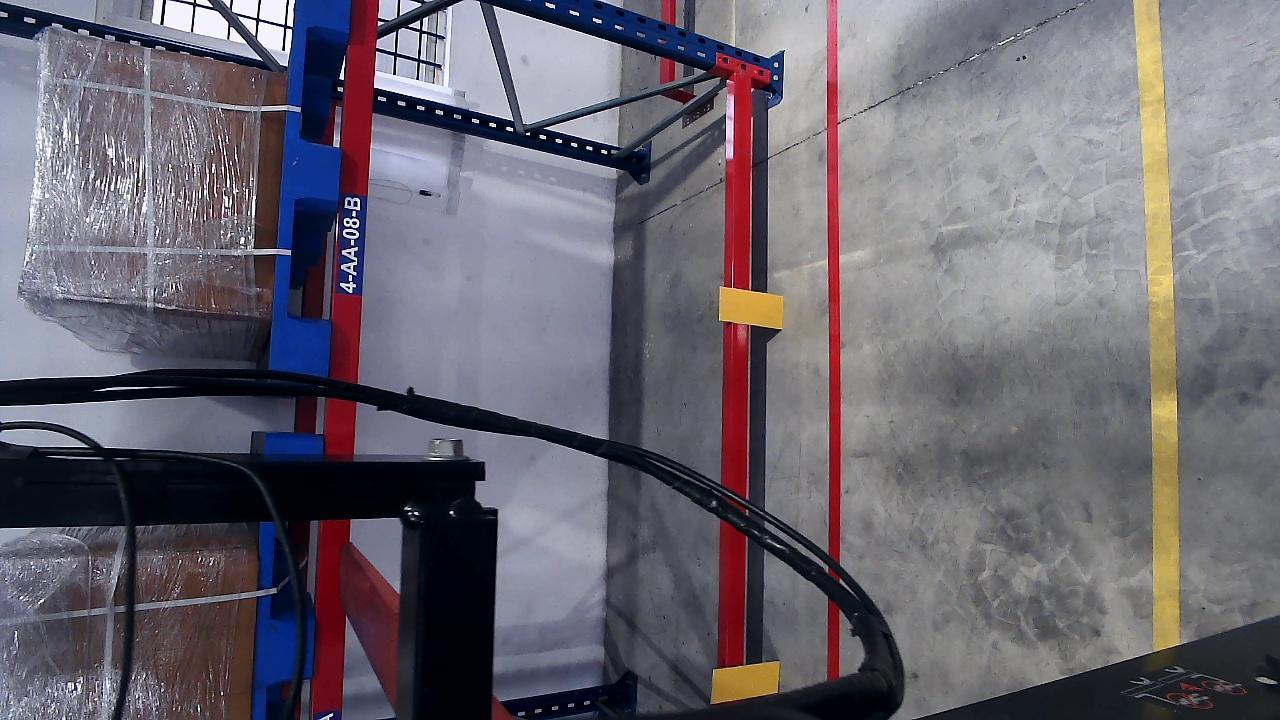red_line: (820, 0, 842, 683)
yellow_line: (1135, 0, 1181, 649)
